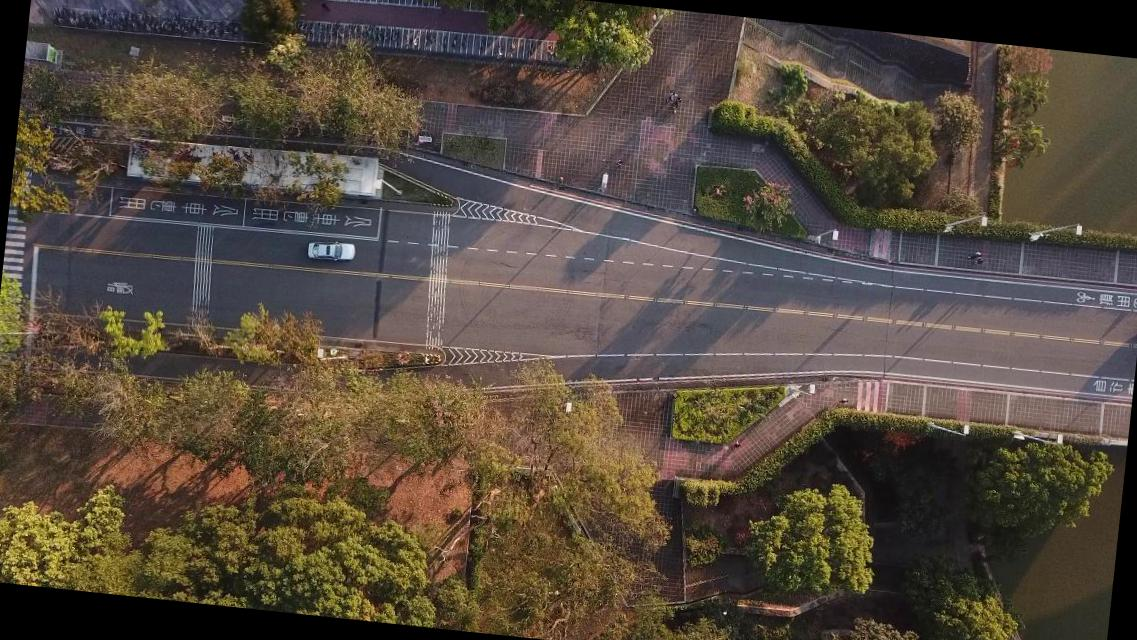vehicle: (304, 238, 355, 264)
